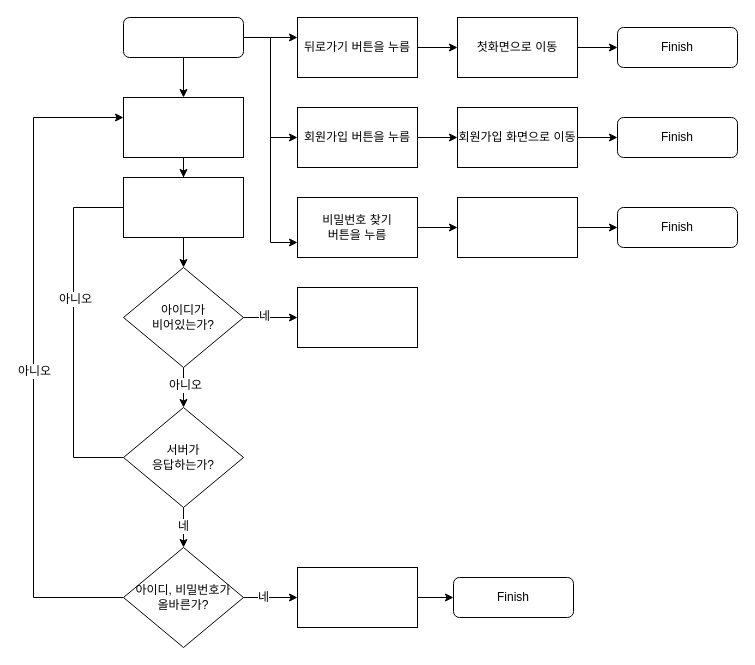
This 755x665 diagram has some shape labels left out. Each missing label, with the centre of its shape:
Start: (183,37)
로그인 버튼: (183,207)
메인화면으로 이동: (357,597)
비밀번호 찾기 화면으로 이동: (517,227)
아이디와 비밀번호를 입력: (183,127)
입력을 요구하는 메세지를 보여줌: (357,317)
